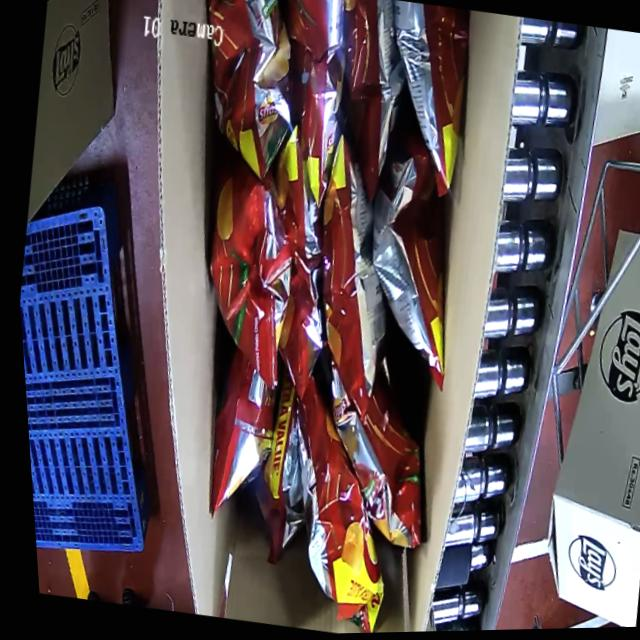MASALA: (99, 0, 529, 633)
